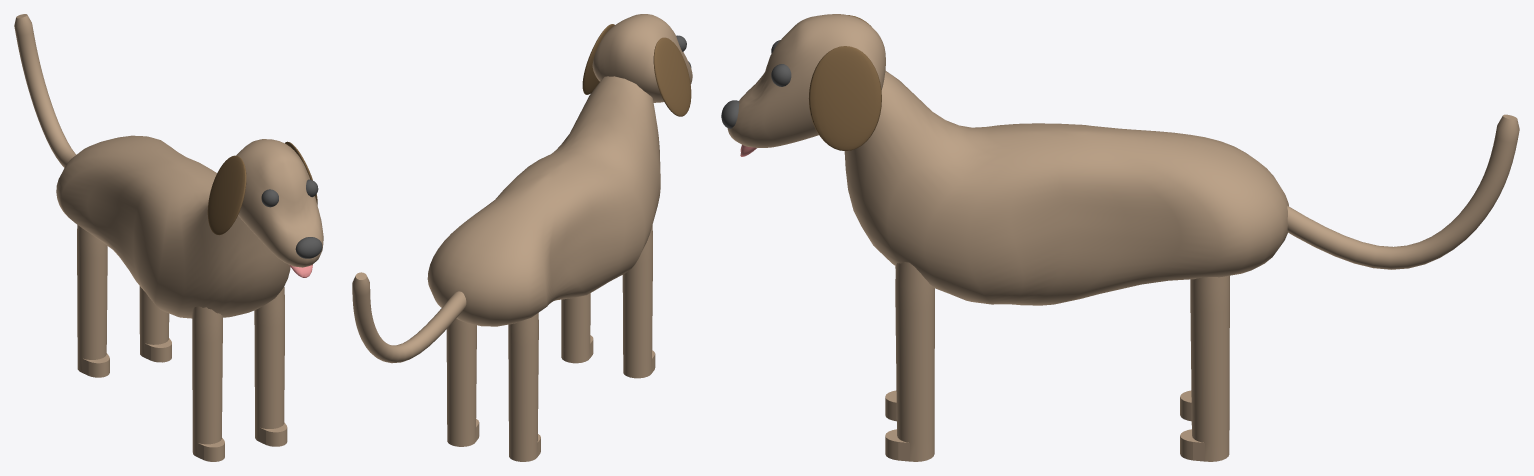
The model's file is Dog.fbx.
The picture shows the model from 3 angles, left to right: view 1: azimuth 30°, elevation 25°; view 2: azimuth 150°, elevation 25°; view 3: azimuth 270°, elevation 25°; orthographic projection. The views are drawn at different scales.
Parts seen in each view (by area): view 1: pSphere1, pSphere2, pCylinder6, pCylinder7, pCylinder5, pCylinder1, pSphere7, pCylinder4, pSphere5; view 2: pSphere1, pCylinder5, pSphere2, pCylinder4, pCylinder6, pCylinder1, pSphere7, pCylinder7, pSphere6; view 3: pSphere1, pSphere2, pCylinder7, pCylinder4, pCylinder1, pSphere6.
Part boxes in pixels (<box>): pSphere1: <box>56,135,290,318</box>; pSphere2: <box>236,139,323,267</box>; pCylinder6: <box>192,306,224,461</box>; pCylinder7: <box>254,286,287,446</box>; pCylinder5: <box>77,225,109,377</box>; pCylinder1: <box>14,14,76,167</box>; pSphere7: <box>207,155,246,235</box>; pCylinder4: <box>139,286,171,362</box>; pSphere5: <box>295,237,322,258</box>; pSphere1: <box>427,76,660,326</box>; pCylinder5: <box>508,313,540,461</box>; pSphere2: <box>592,14,692,102</box>; pCylinder4: <box>446,318,479,446</box>; pCylinder6: <box>622,225,655,378</box>; pCylinder1: <box>352,272,466,363</box>; pSphere7: <box>653,37,691,116</box>; pCylinder7: <box>561,293,593,363</box>; pSphere6: <box>582,24,614,94</box>; pSphere1: <box>844,70,1288,305</box>; pSphere2: <box>727,14,885,147</box>; pCylinder7: <box>885,262,934,461</box>; pCylinder4: <box>1180,275,1229,461</box>; pCylinder1: <box>1287,114,1519,269</box>; pSphere6: <box>808,46,881,150</box>.
Bounding box in the file's own units: 1.01 × 2.66 × 4.62.
